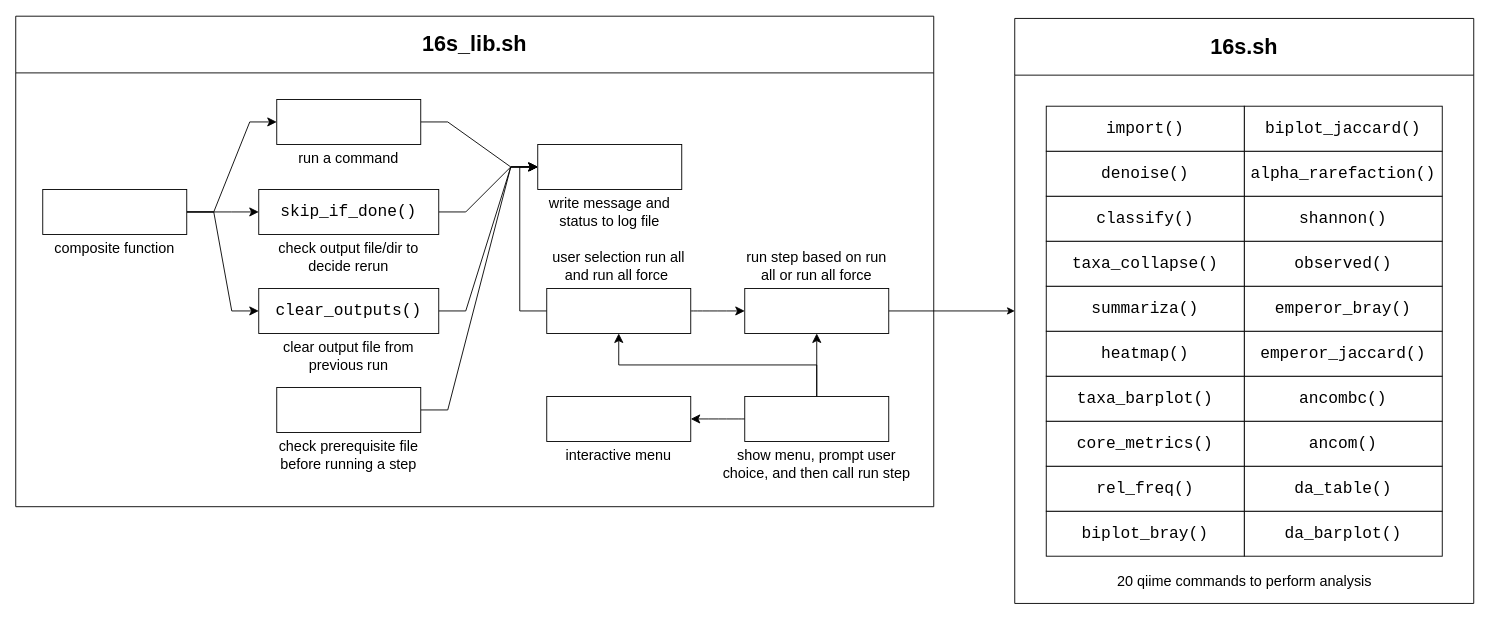
Some shapes in this 1490 by 619 pixel diagram are drawn without their labels. The centre of each missing label's shape, as x and y in pixels:
"log()" goes at pixel 609 166.
"menu()" goes at pixel 618 418.
"need()" goes at pixel 348 409.
"prepare()" goes at pixel 114 211.
"run()" goes at pixel 348 121.
"run_all()" goes at pixel 618 310.
"run_step()" goes at pixel 816 310.
"show_menu()" goes at pixel 816 418.
